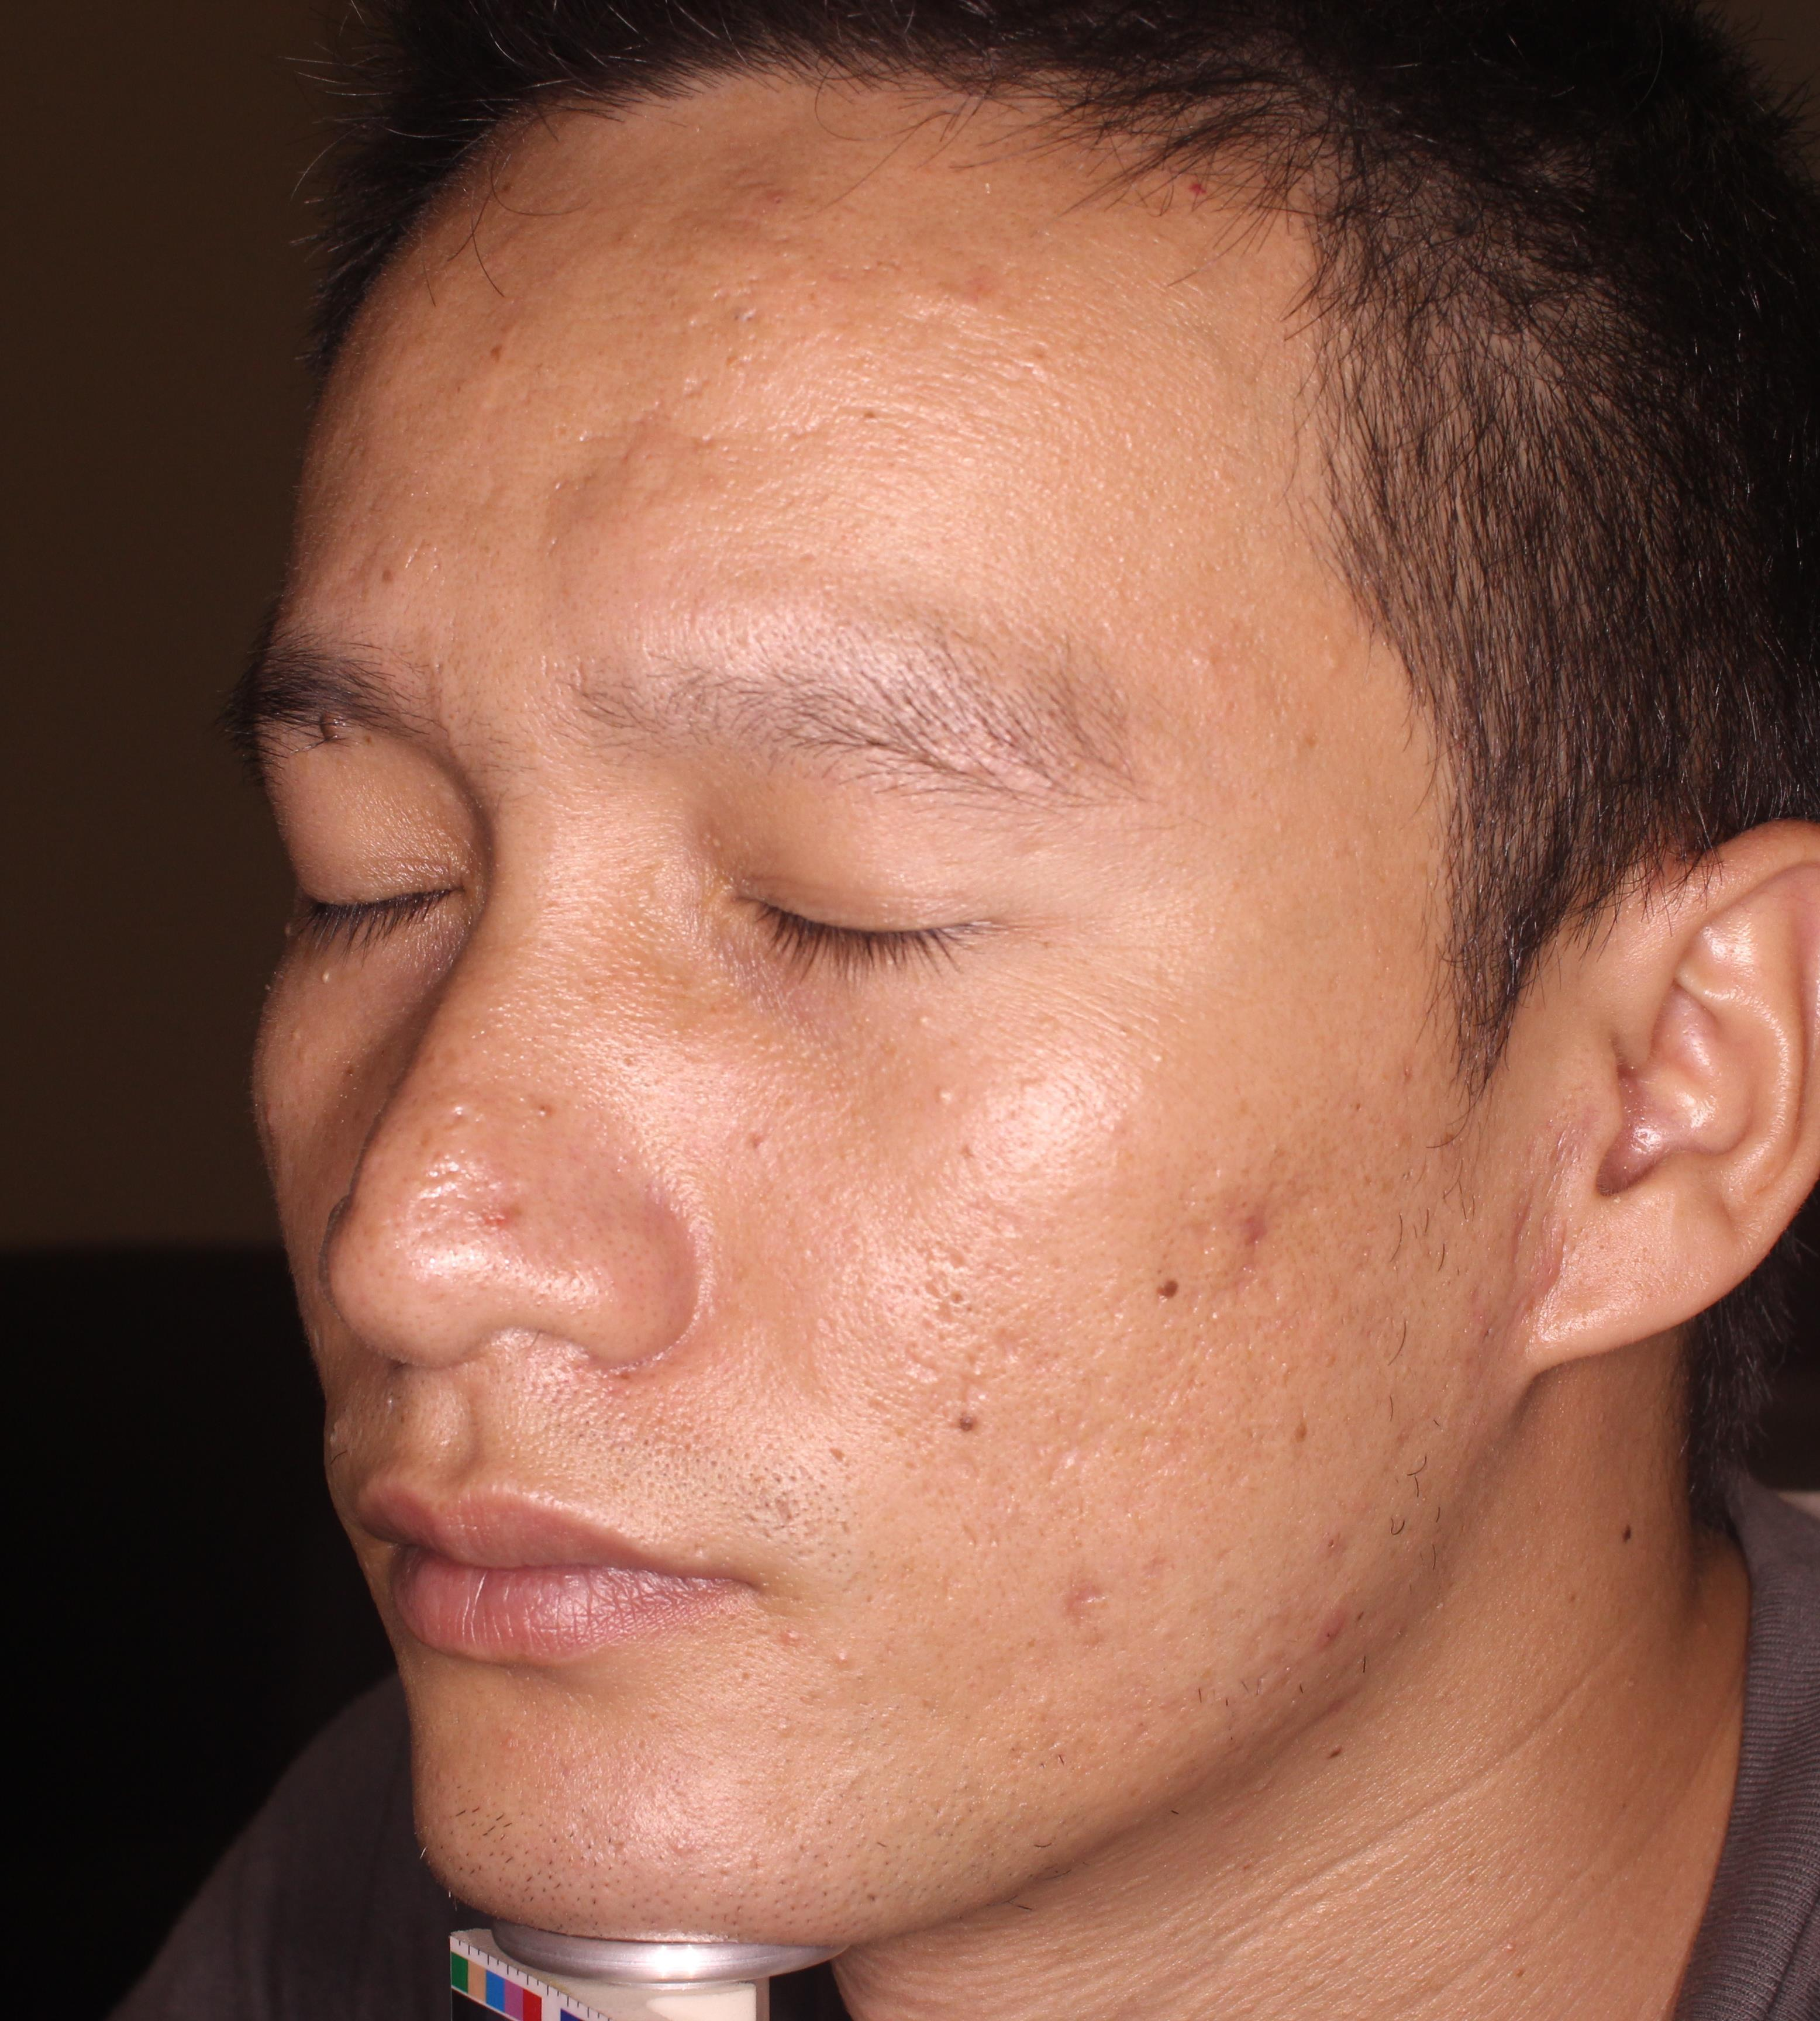fore: (1282, 1586, 1381, 1658), (1210, 1182, 1282, 1257)
